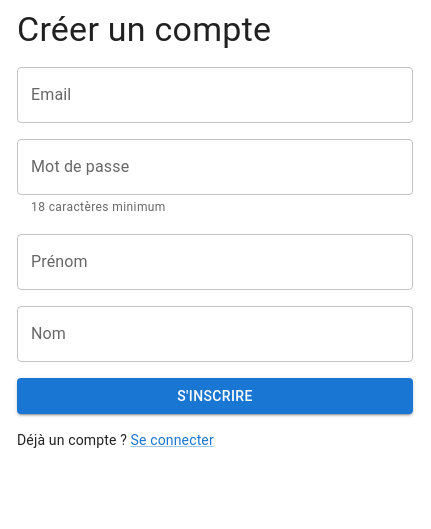
Test case: SignupPage › surfaces a 409 (email already taken) as a server error message
Step 1. Type "etu.dupont@etu.u-paris.fr" into the field labelled "Email" → (215, 95), box [17,67,413,123]
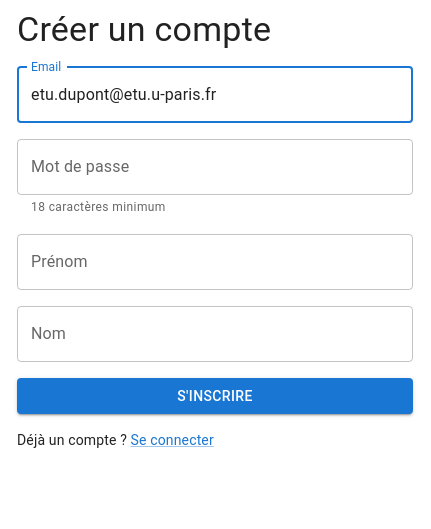
Step 2. Type "un-mot-de-passe-bien-assez-long" into the password field labelled "Mot de passe" → (215, 167), box [17,139,413,195]
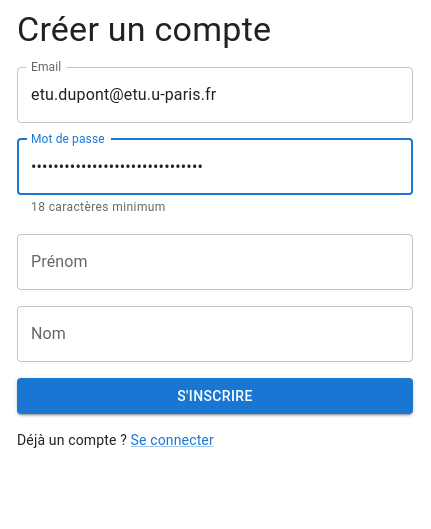
Step 3. Type "Étu" into the field labelled "Prénom" → (215, 262), box [17,234,413,290]
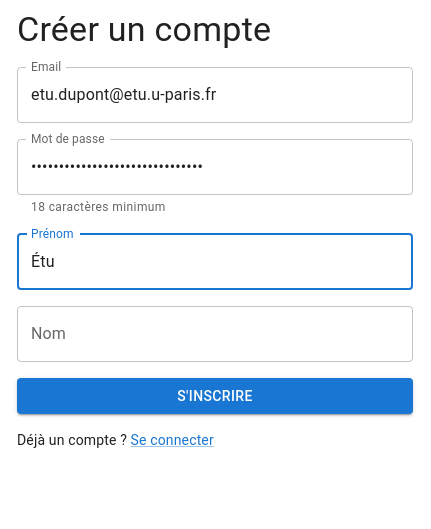
Step 4. Type "Dupont" into the field labelled "Nom" → (215, 334), box [17,306,413,362]
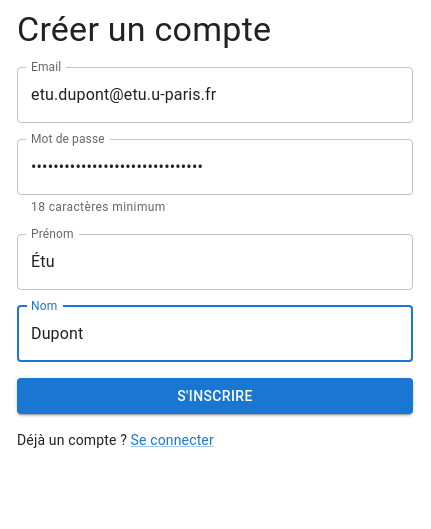
Step 5. Click the button "S'inscrire" → (215, 396), box [17,378,413,414]
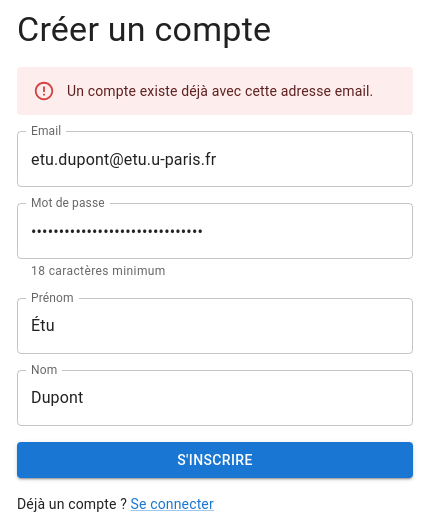
Now the text "Un compte existe déjà avec cette adresse email." is shown, box [67,83,374,99]
